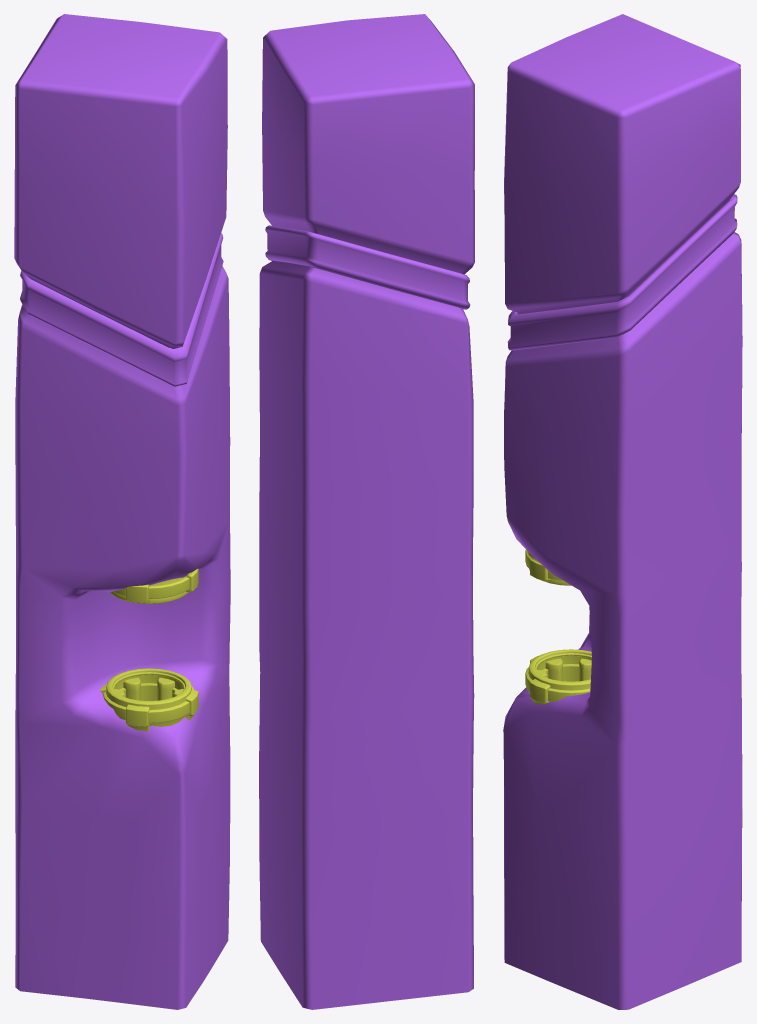
Rendered from env_Chamber_RunePillar_02.FBX.
3 views of the same model, side by side, from view 1: azimuth 30°, elevation 25°; view 2: azimuth 150°, elevation 25°; view 3: azimuth 270°, elevation 25° (orthographic).
Visible parts, largest first — view 1: env_Chamber_RunePillar_02; view 2: env_Chamber_RunePillar_02; view 3: env_Chamber_RunePillar_02.
Part boxes in pixels (x1=…): env_Chamber_RunePillar_02: x1=14, y1=14, x2=230, y2=1009; env_Chamber_RunePillar_02: x1=259, y1=14, x2=474, y2=1009; env_Chamber_RunePillar_02: x1=503, y1=14, x2=742, y2=1009.
Bounding box in the file's own units: 202 × 832 × 200.
